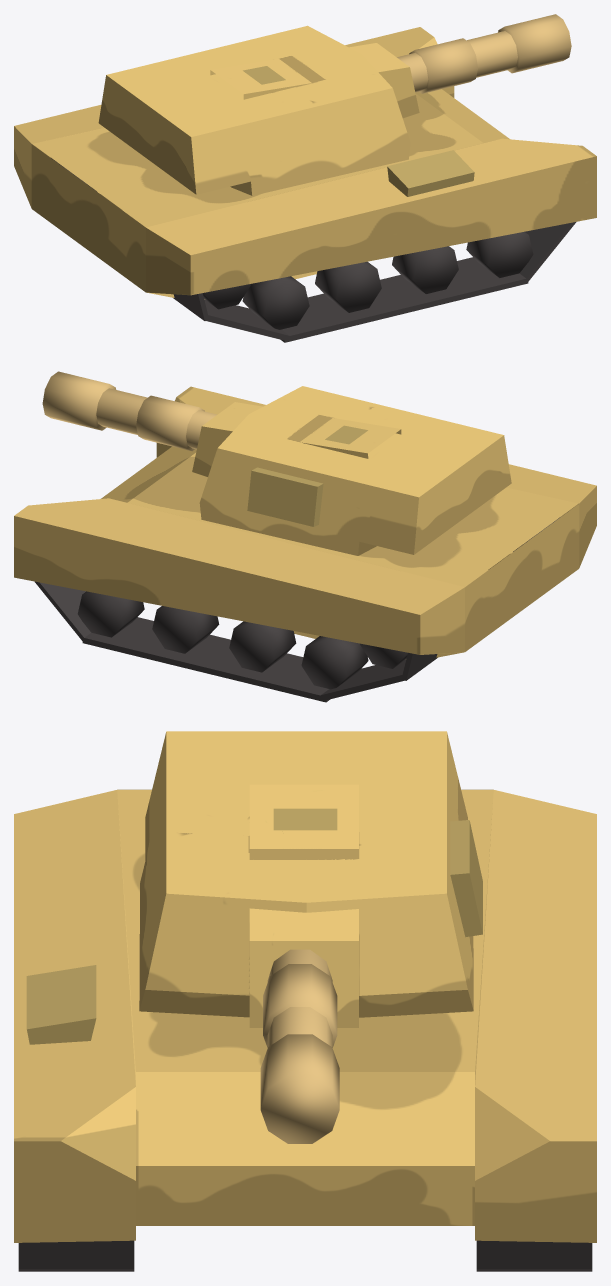
File: grom.glb
3 views of the same model, one above another, from view 1: azimuth 30°, elevation 25°; view 2: azimuth 150°, elevation 25°; view 3: azimuth 270°, elevation 25° (orthographic). The views are drawn at different scales.
Parts seen in each view (by area): view 1: Cube, Cube.001, Cube.007, Cylinder.003, Cube.003, Cylinder.009, Cylinder.008, Cylinder.005, Cylinder, Cylinder.010, Cylinder.011, Cube.008 (+4 smaller); view 2: Cube, Cube.001, Cube.012, Cube.002, Cylinder.003, Cylinder.007, Cylinder.006, Cylinder.005, Cylinder, Cylinder.001, Cylinder.002, Cube.013 (+4 smaller); view 3: Cube, Cube.001, Cylinder.003, Cube.003, Cylinder.005, Cube.010, Cube.015, Cube.002, Cylinder, Plane.
Part boxes in pixels (<box>): Cube: <box>14,27,596,299</box>; Cube.001: <box>98,25,419,195</box>; Cube.007: <box>281,257,528,342</box>; Cylinder.003: <box>498,14,571,73</box>; Cube.003: <box>387,150,474,196</box>; Cylinder.009: <box>242,276,309,329</box>; Cylinder.008: <box>315,261,381,312</box>; Cylinder.005: <box>409,38,477,93</box>; Cylinder: <box>397,31,517,92</box>; Cylinder.010: <box>392,246,458,293</box>; Cylinder.011: <box>466,231,533,277</box>; Cube.008: <box>204,300,289,340</box>; Cube: <box>14,386,596,657</box>; Cube.001: <box>192,386,511,555</box>; Cube.012: <box>82,617,329,702</box>; Cube.002: <box>247,467,323,526</box>; Cylinder.003: <box>42,371,116,430</box>; Cylinder.007: <box>301,636,368,689</box>; Cylinder.006: <box>229,621,296,672</box>; Cylinder.005: <box>136,395,204,451</box>; Cylinder: <box>96,388,216,449</box>; Cylinder.001: <box>152,606,219,653</box>; Cylinder.002: <box>77,591,144,637</box>; Cube.013: <box>321,659,405,700</box>; Cube: <box>14,789,596,1242</box>; Cube.001: <box>139,731,473,1027</box>; Cylinder.003: <box>260,1034,339,1143</box>; Cube.003: <box>26,965,96,1044</box>; Cylinder.005: <box>263,964,337,1047</box>; Cube.010: <box>18,1240,134,1268</box>; Cube.015: <box>476,1240,592,1268</box>; Cube.002: <box>450,820,482,937</box>; Cylinder: <box>267,949,332,1047</box>; Plane: <box>273,808,337,830</box>.
Size of the model in its own units: 11.02 by 4.27 by 7.19.
5 materials, 2 textured.
